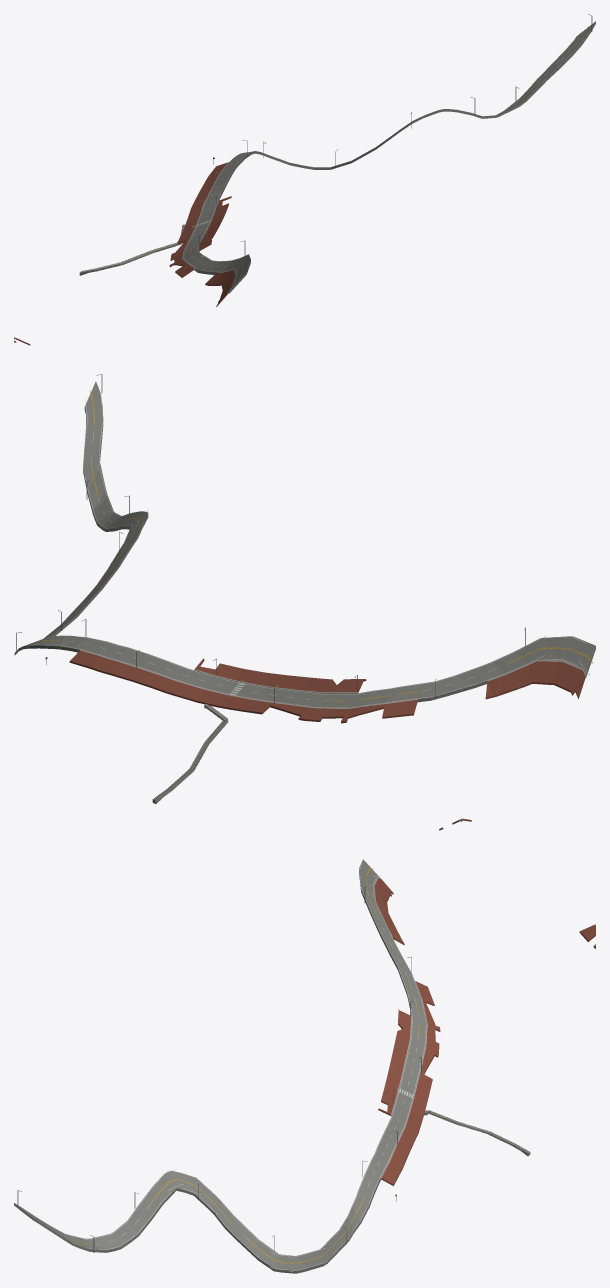
The picture shows the model from 3 angles, top to bottom: view 1: azimuth 90°, elevation 25°; view 2: azimuth 150°, elevation 25°; view 3: azimuth 270°, elevation 25°; orthographic projection. The views are drawn at different scales.
Bounding box in the file's own units: 296 × 73.26 × 243.
